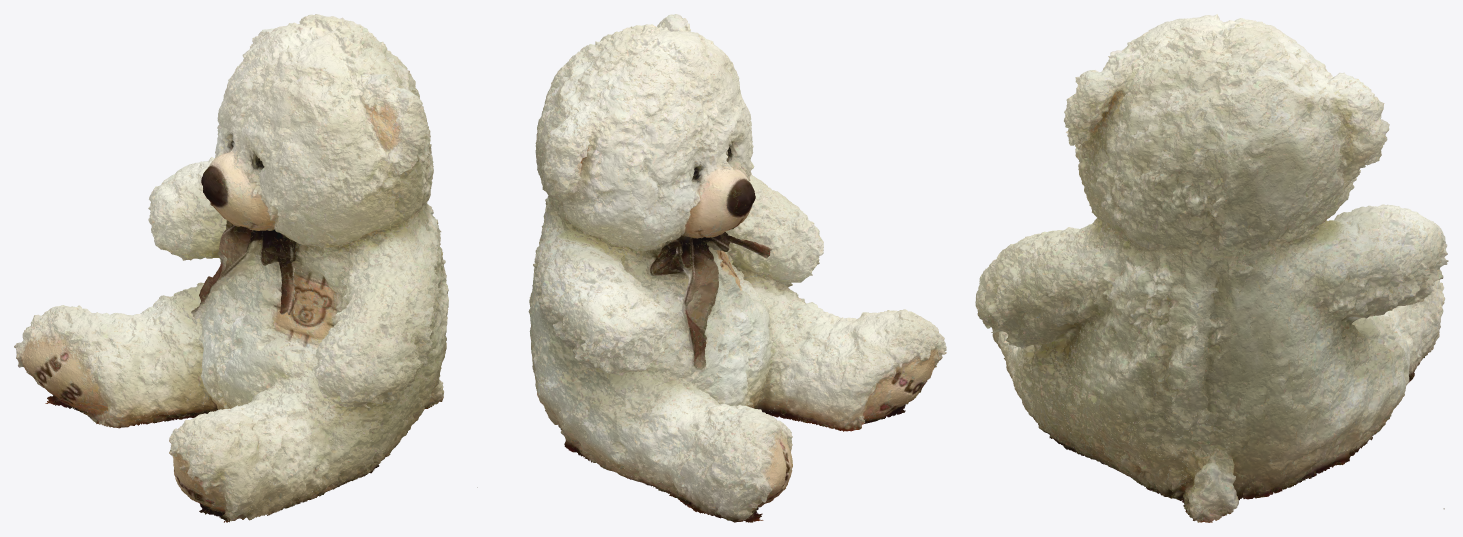
File: item_teddy.glb
3 views of the same model, side by side, from view 1: azimuth 30°, elevation 25°; view 2: azimuth 150°, elevation 25°; view 3: azimuth 270°, elevation 25° (orthographic). The views are drawn at different scales.
Visible parts, largest first — view 1: bear_hp; view 2: bear_hp; view 3: bear_hp.
Boxes of the visible parts, box(x1,y1,x2,y2) form: bear_hp: box(14, 14, 448, 522); bear_hp: box(477, 14, 946, 522); bear_hp: box(975, 14, 1448, 522).
Size of what is drawn, in the model's own units: 0.3438 by 0.3986 by 0.3796.
Materials: 1 (1 with a texture image).
